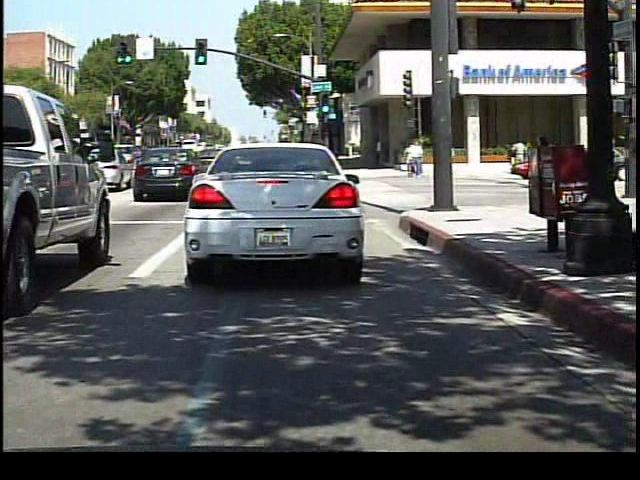person: (405, 136, 425, 179), (508, 136, 529, 176), (438, 136, 456, 173)
